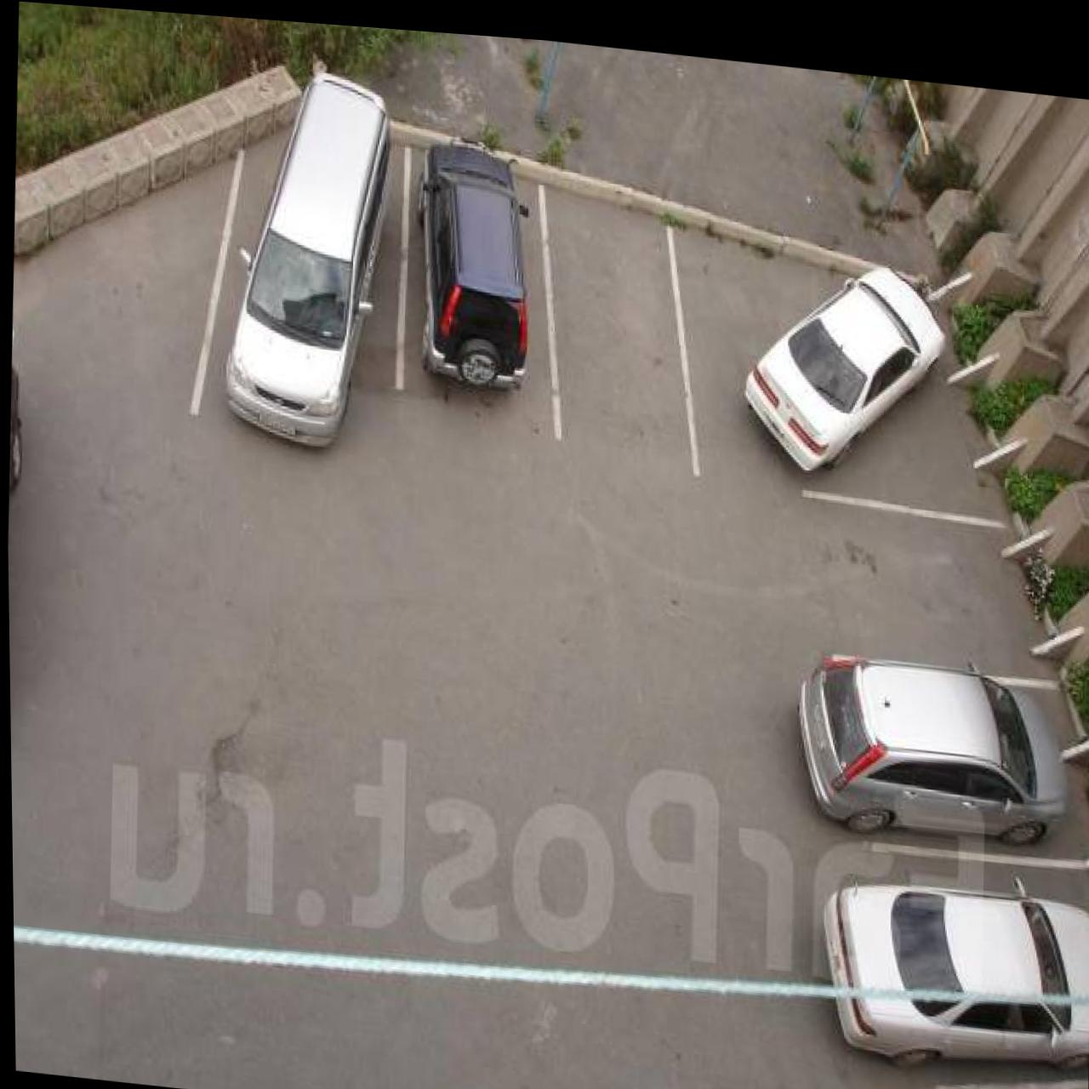cars: (713, 235, 986, 514), (219, 93, 402, 466), (386, 141, 578, 467), (824, 864, 1089, 1070), (812, 656, 1076, 859)
empty: (537, 194, 696, 470), (777, 499, 1026, 675)
